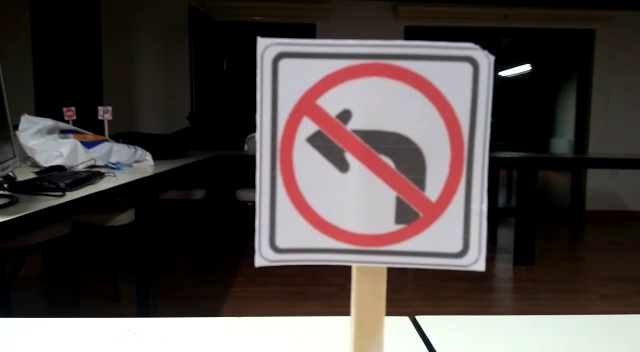sola_donulmez: (252, 44, 487, 259)
